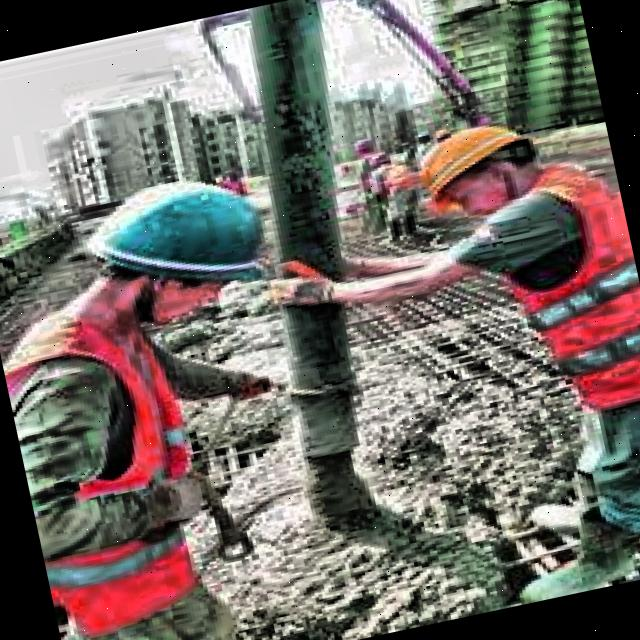helmet: (54, 145, 298, 341), (403, 103, 563, 228)
